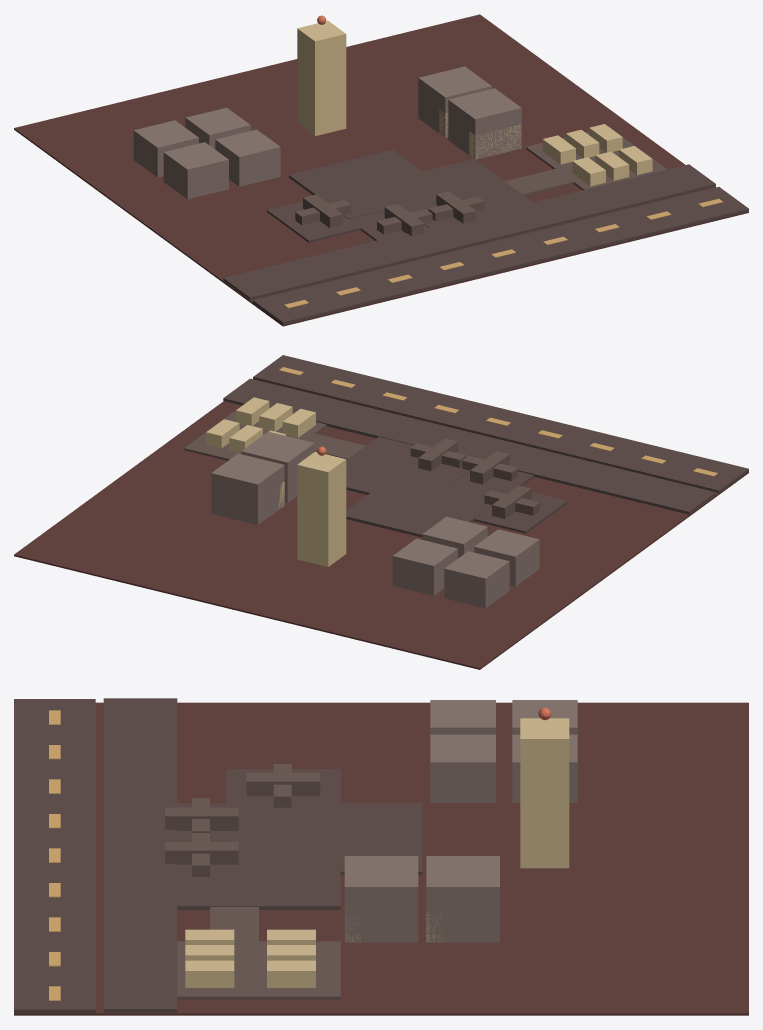
File: stage_16.glb
3 views of the same model, one above another, from view 1: azimuth 30°, elevation 25°; view 2: azimuth 150°, elevation 25°; view 3: azimuth 270°, elevation 25° (orthographic). The views are drawn at different scales.
Visible parts, largest first — view 1: geometry_0; view 2: geometry_0; view 3: geometry_0.
Part boxes in pixels (<box>): geometry_0: <box>14,14,748,326</box>; geometry_0: <box>14,355,748,669</box>; geometry_0: <box>14,698,748,1015</box>.
Size of the model in its own units: 9 by 2.06 by 9.
